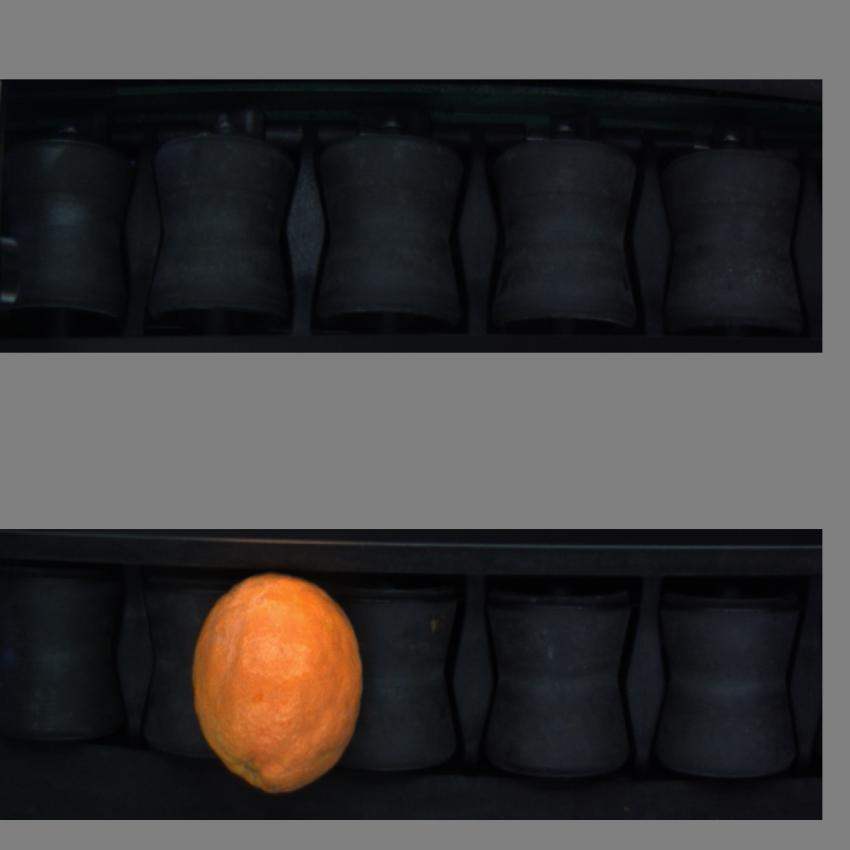Buen estado: (188, 576, 369, 796)
